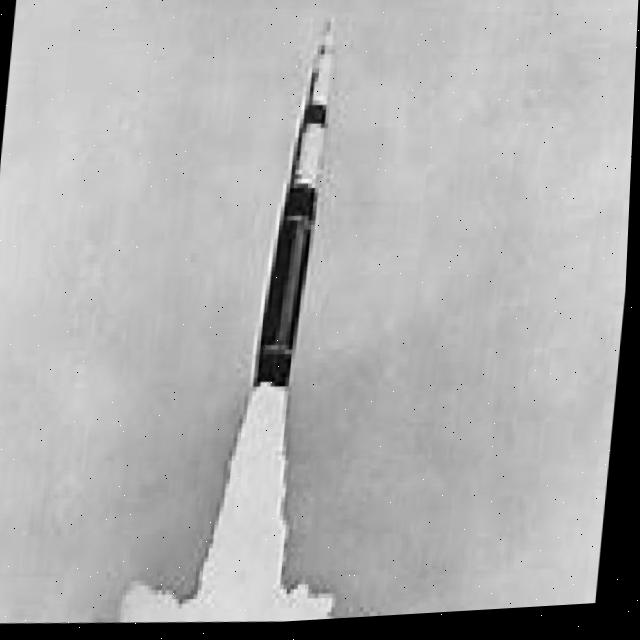missile: (253, 15, 335, 393)
